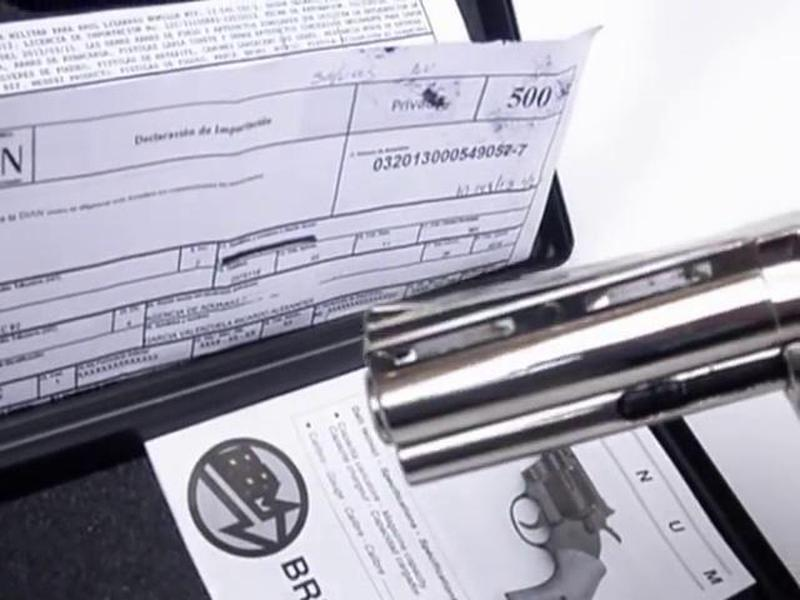Revolver: (352, 173, 800, 487)
